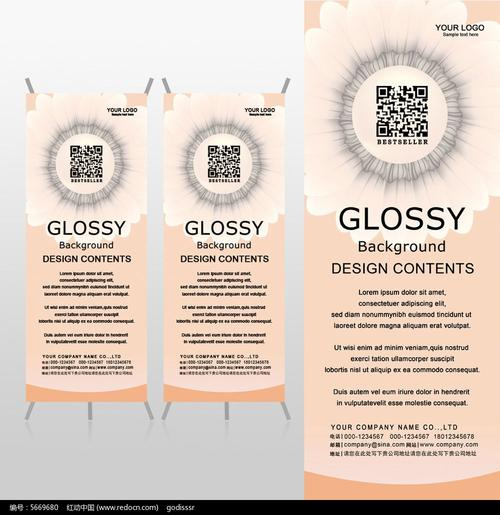QRCode: (375, 82, 433, 141), (67, 140, 107, 179), (203, 143, 243, 179)
